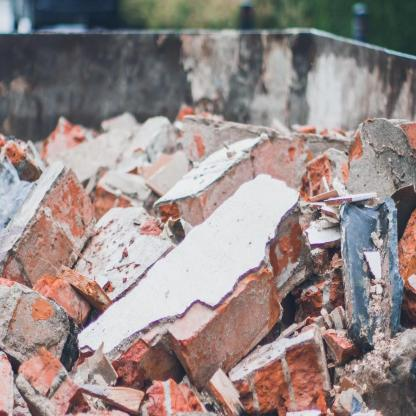brick: (0, 100, 415, 416)
